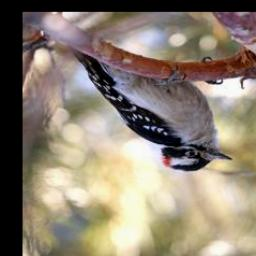Woodpecker: (71, 45, 232, 171)
